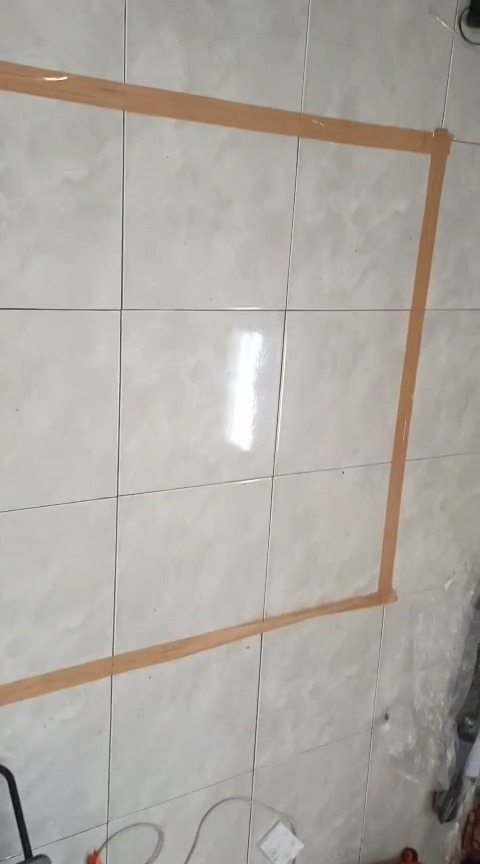floor marking: (0, 61, 451, 704)
